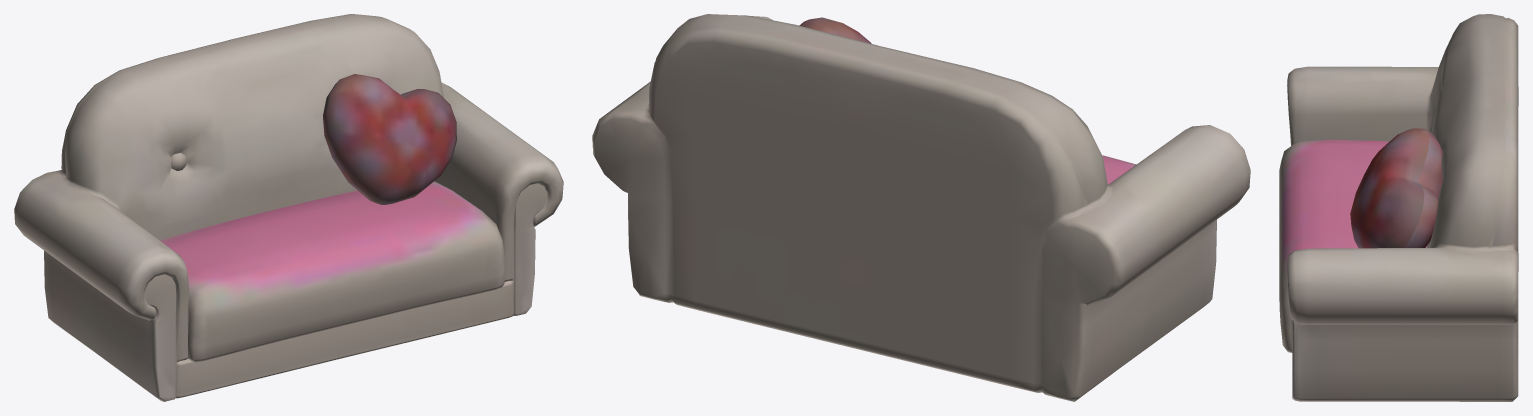
3 views of the same model, side by side, from view 1: azimuth 30°, elevation 25°; view 2: azimuth 150°, elevation 25°; view 3: azimuth 270°, elevation 25° (orthographic). The views are drawn at different scales.
Size of the model in its own units: 19.41 by 10.19 by 9.16.
1 material, 1 textured.
